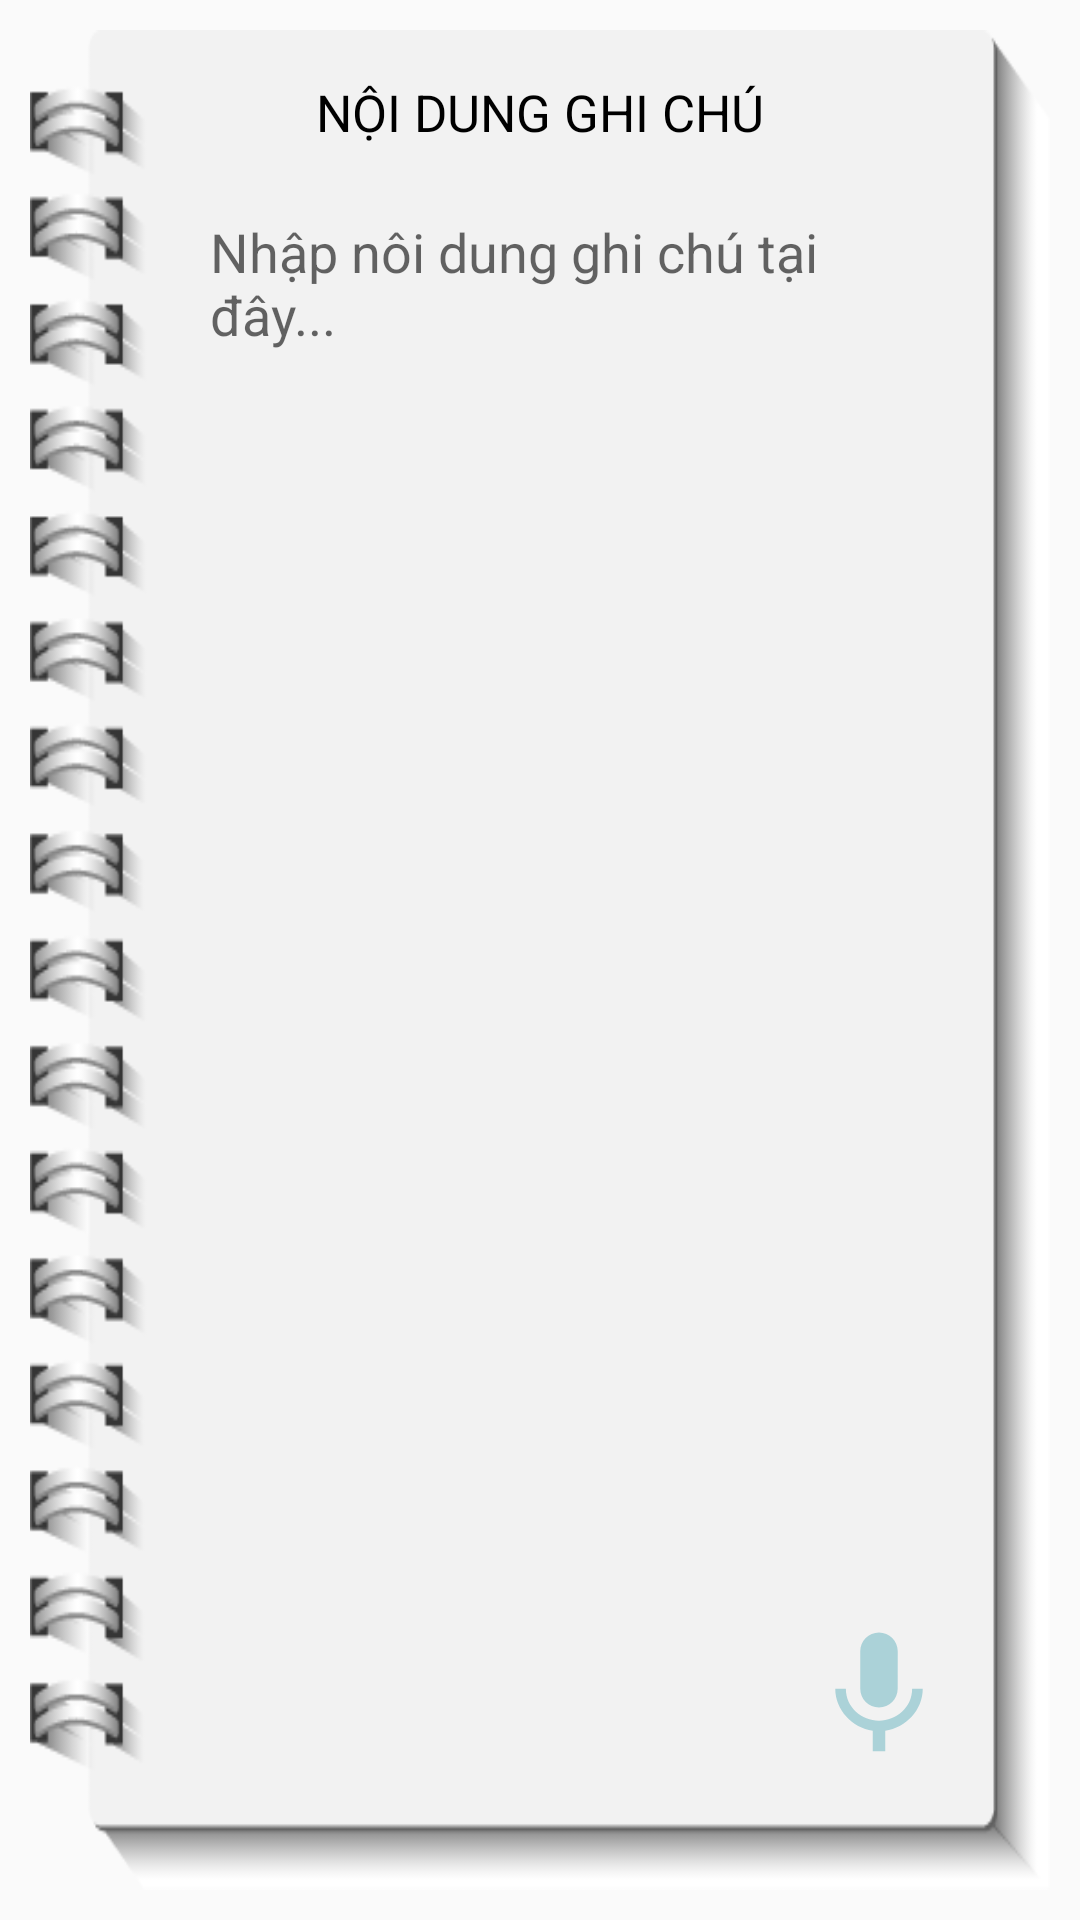

Screen size 1080w x 1920h. Icon name, then its center in pixels as (x=x, y=y):
mic: (x=879, y=1691)
